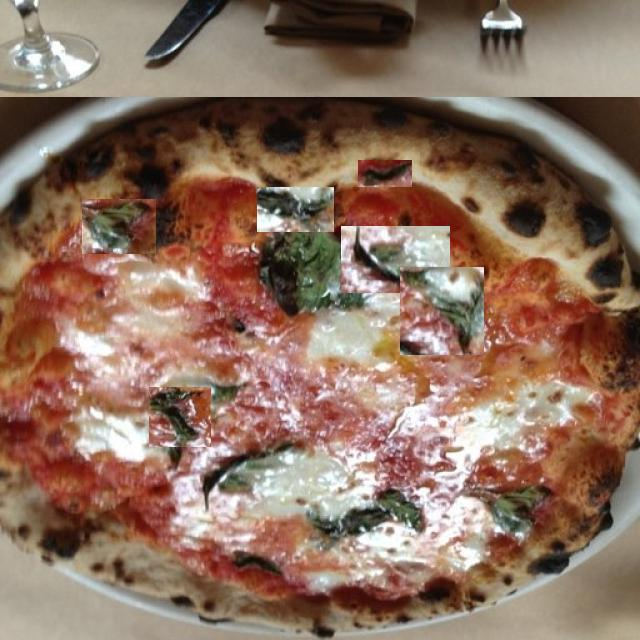basil: (278, 422, 382, 518), (400, 267, 484, 355), (341, 226, 450, 293), (82, 199, 156, 254), (149, 387, 211, 447), (257, 187, 334, 232), (216, 200, 266, 246), (358, 160, 412, 187)
pizza: (0, 97, 640, 640)
